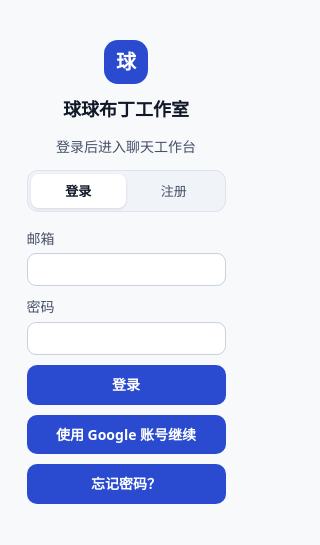
Test: LoginForm › asks for the email before sending a reset mail, then says it was sent
Click the button "忘记密码？" at (126, 484), box x1=26 y1=464 x2=226 y2=504
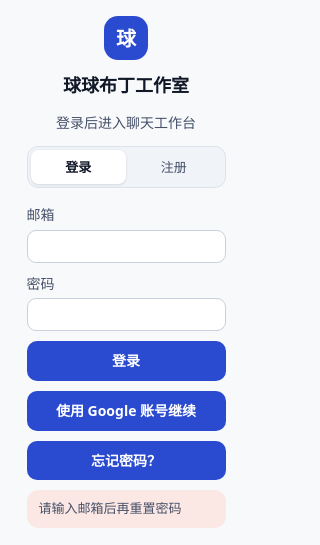
Expected: the message shows "请输入邮箱", x1=38 y1=499 x2=182 y2=517
Type "me@example.com" into the field labelled "邮箱" at (126, 246), box x1=26 y1=230 x2=226 y2=263
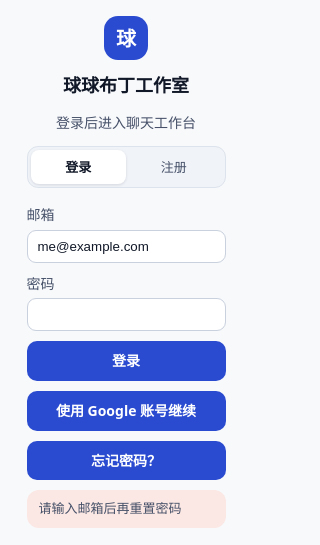
Click the button "忘记密码？" at (126, 460), box x1=26 y1=441 x2=226 y2=480
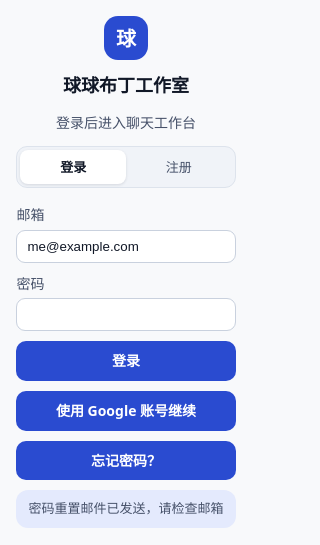
Expected: the message shows "密码重置邮件已发送", x1=28 y1=499 x2=224 y2=517
